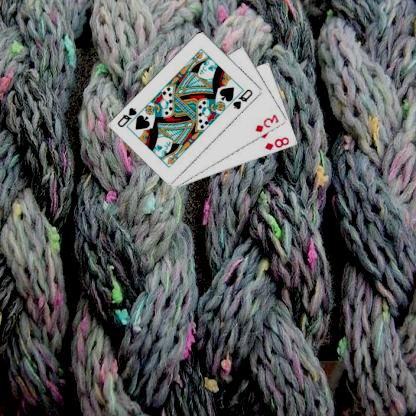3D: (255, 112, 282, 134)
8D: (264, 135, 293, 151)
QS: (232, 86, 256, 110), (117, 104, 140, 128)
